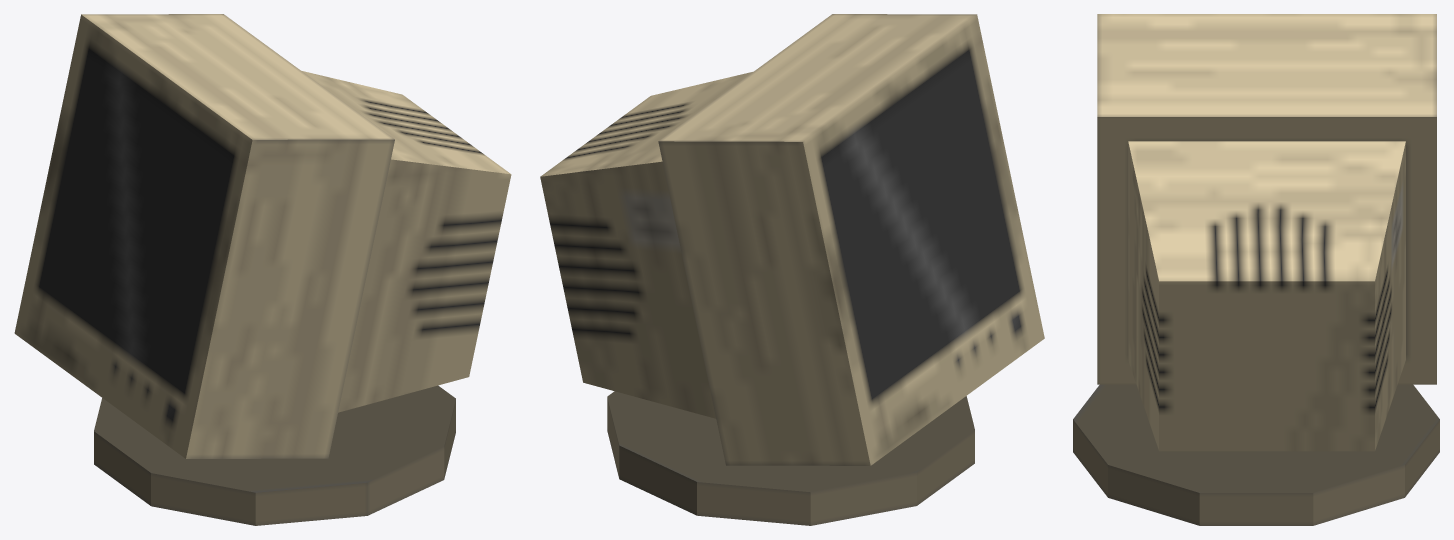
File: obj_monitor.fbx
3 views of the same model, side by side, from view 1: azimuth 30°, elevation 25°; view 2: azimuth 150°, elevation 25°; view 3: azimuth 270°, elevation 25° (orthographic). The views are drawn at different scales.
Visible parts, largest first — view 1: obj_monitor_table; view 2: obj_monitor_table; view 3: obj_monitor_table.
Part boxes in pixels (x1=…): obj_monitor_table: x1=14, y1=14, x2=511, y2=525; obj_monitor_table: x1=540, y1=14, x2=1044, y2=525; obj_monitor_table: x1=1073, y1=14, x2=1439, y2=525.
Bounding box in the file's own units: 34.72 × 36.46 × 31.21.
